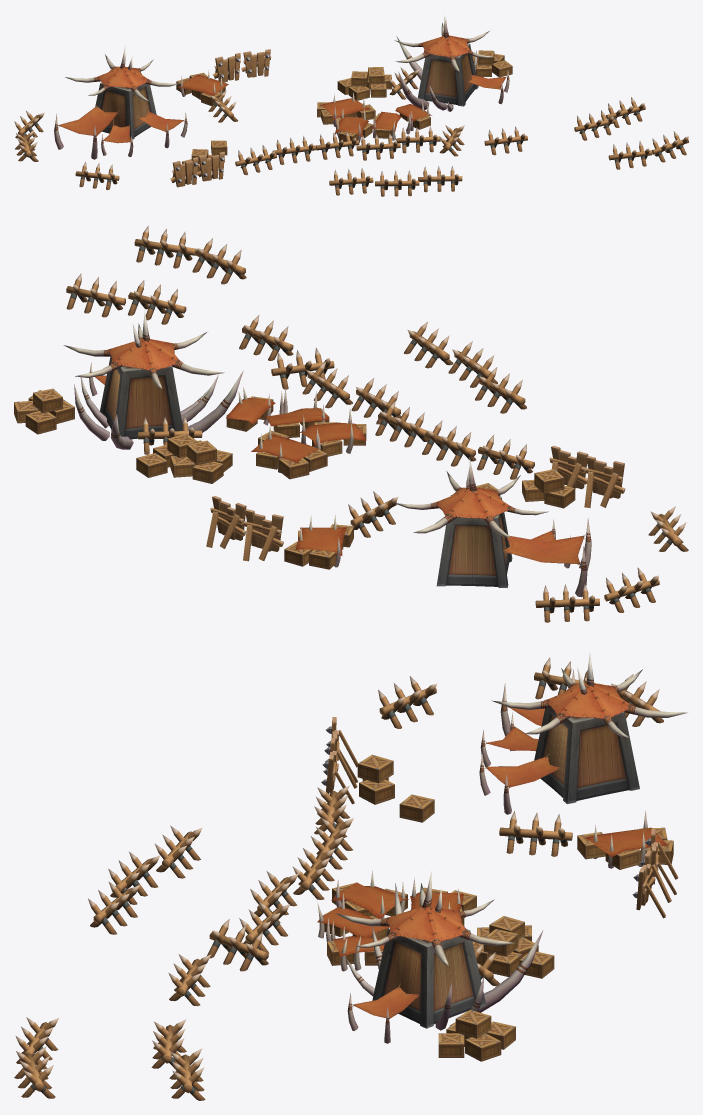
File: area_11_19.fbx
3 renders of one model, top to bottom at view 1: azimuth 30°, elevation 25°; view 2: azimuth 150°, elevation 25°; view 3: azimuth 270°, elevation 25°, orthographic. The views are drawn at different scales.
Visible parts, largest first — view 1: area_11_19; view 2: area_11_19; view 3: area_11_19.
Part boxes in pixels (x1,y1,x2,y2): area_11_19: [14, 15, 688, 196]; area_11_19: [14, 225, 688, 622]; area_11_19: [14, 652, 687, 1100].
Bounding box in the file's own units: 71.36 × 11.85 × 48.76.
